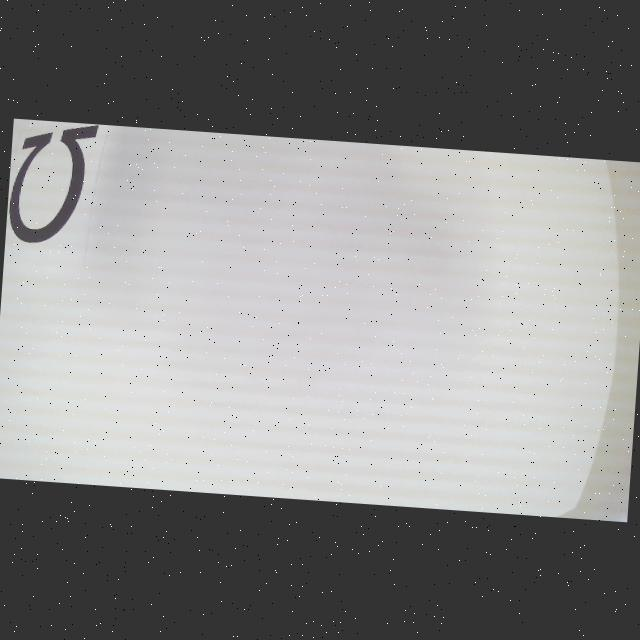OMEGA: (7, 119, 99, 248)
